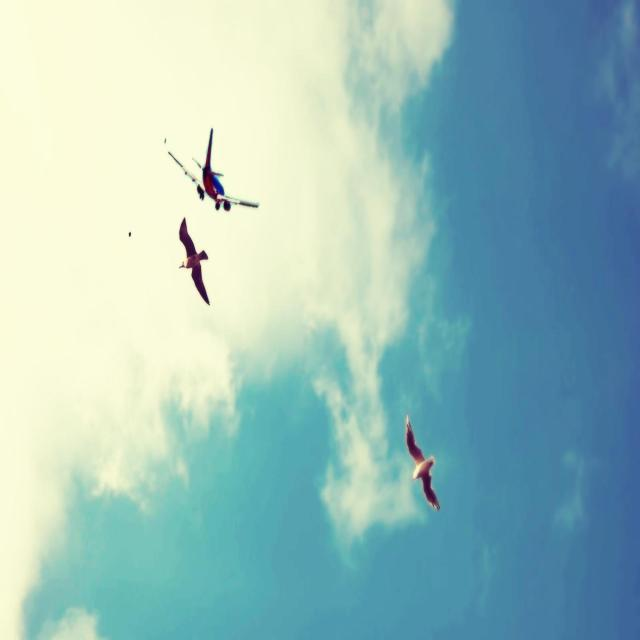airplane: (166, 127, 260, 211)
